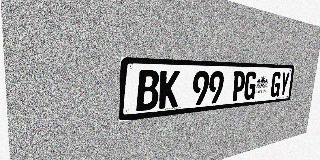9: (191, 71, 210, 106), (208, 71, 225, 104)
B: (136, 70, 160, 111)
G: (243, 71, 257, 100), (270, 72, 282, 97)
K: (158, 70, 180, 109)
P: (231, 71, 246, 101)
Y: (279, 72, 290, 97)
